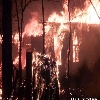fire: (0, 1, 100, 99)
